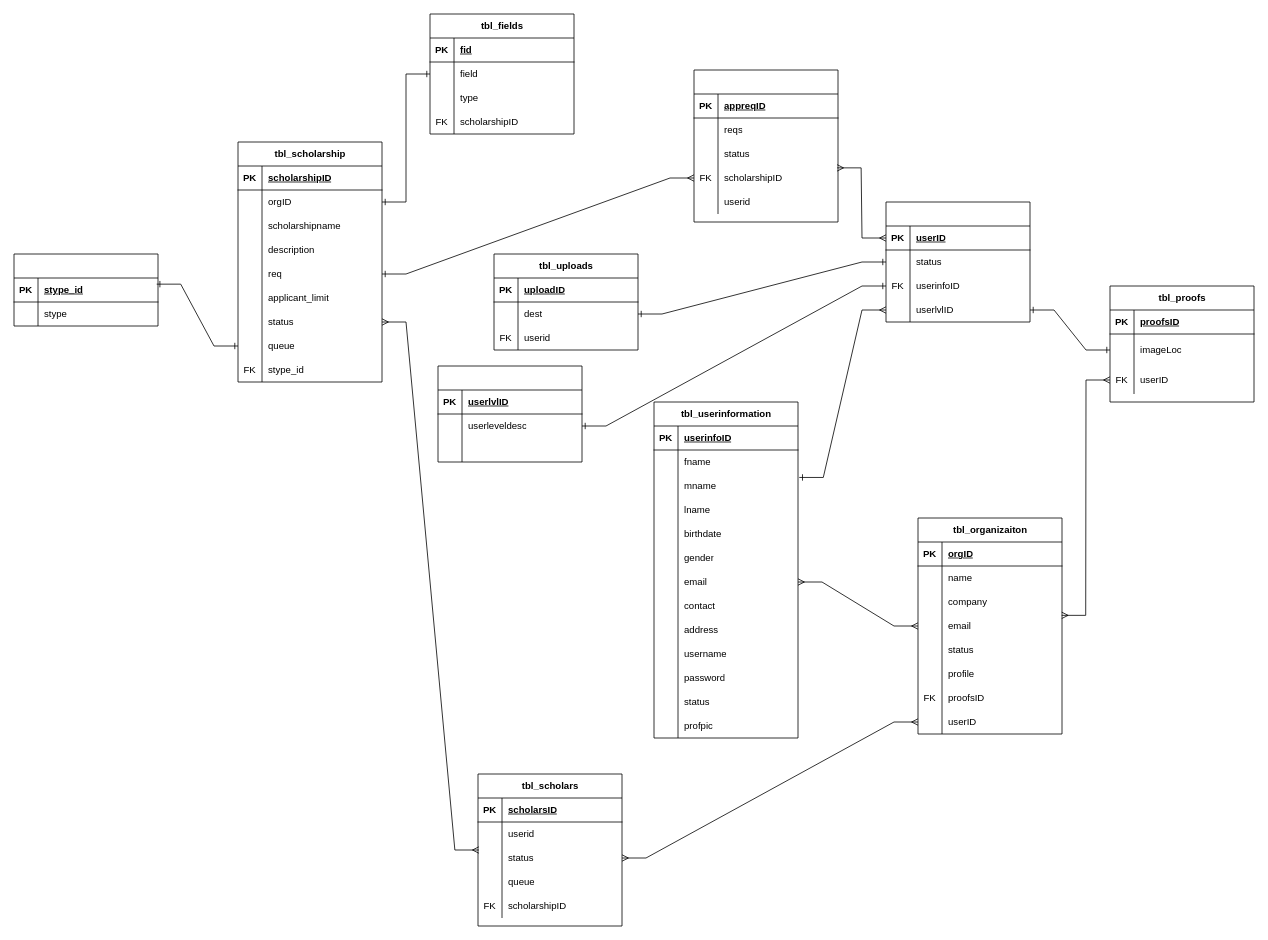
Some shapes in this 1268 by 940 pixel diagram are drawn without their labels. The box of each missing label's shape, as (x1, y1, x2, y2) in pixels:
tbl_applicant_req: (693, 69, 838, 222)
tbl_stype: (13, 253, 158, 326)
tbl_userlevel: (437, 365, 582, 462)
tbl_users: (885, 201, 1030, 322)
